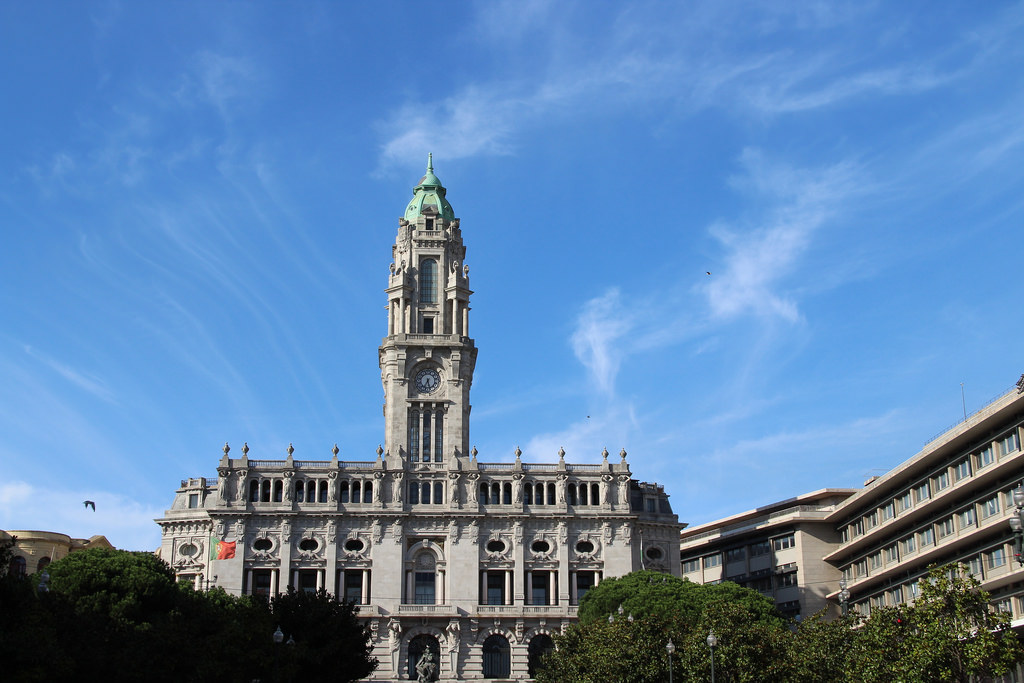camara: (150, 150, 690, 682)
